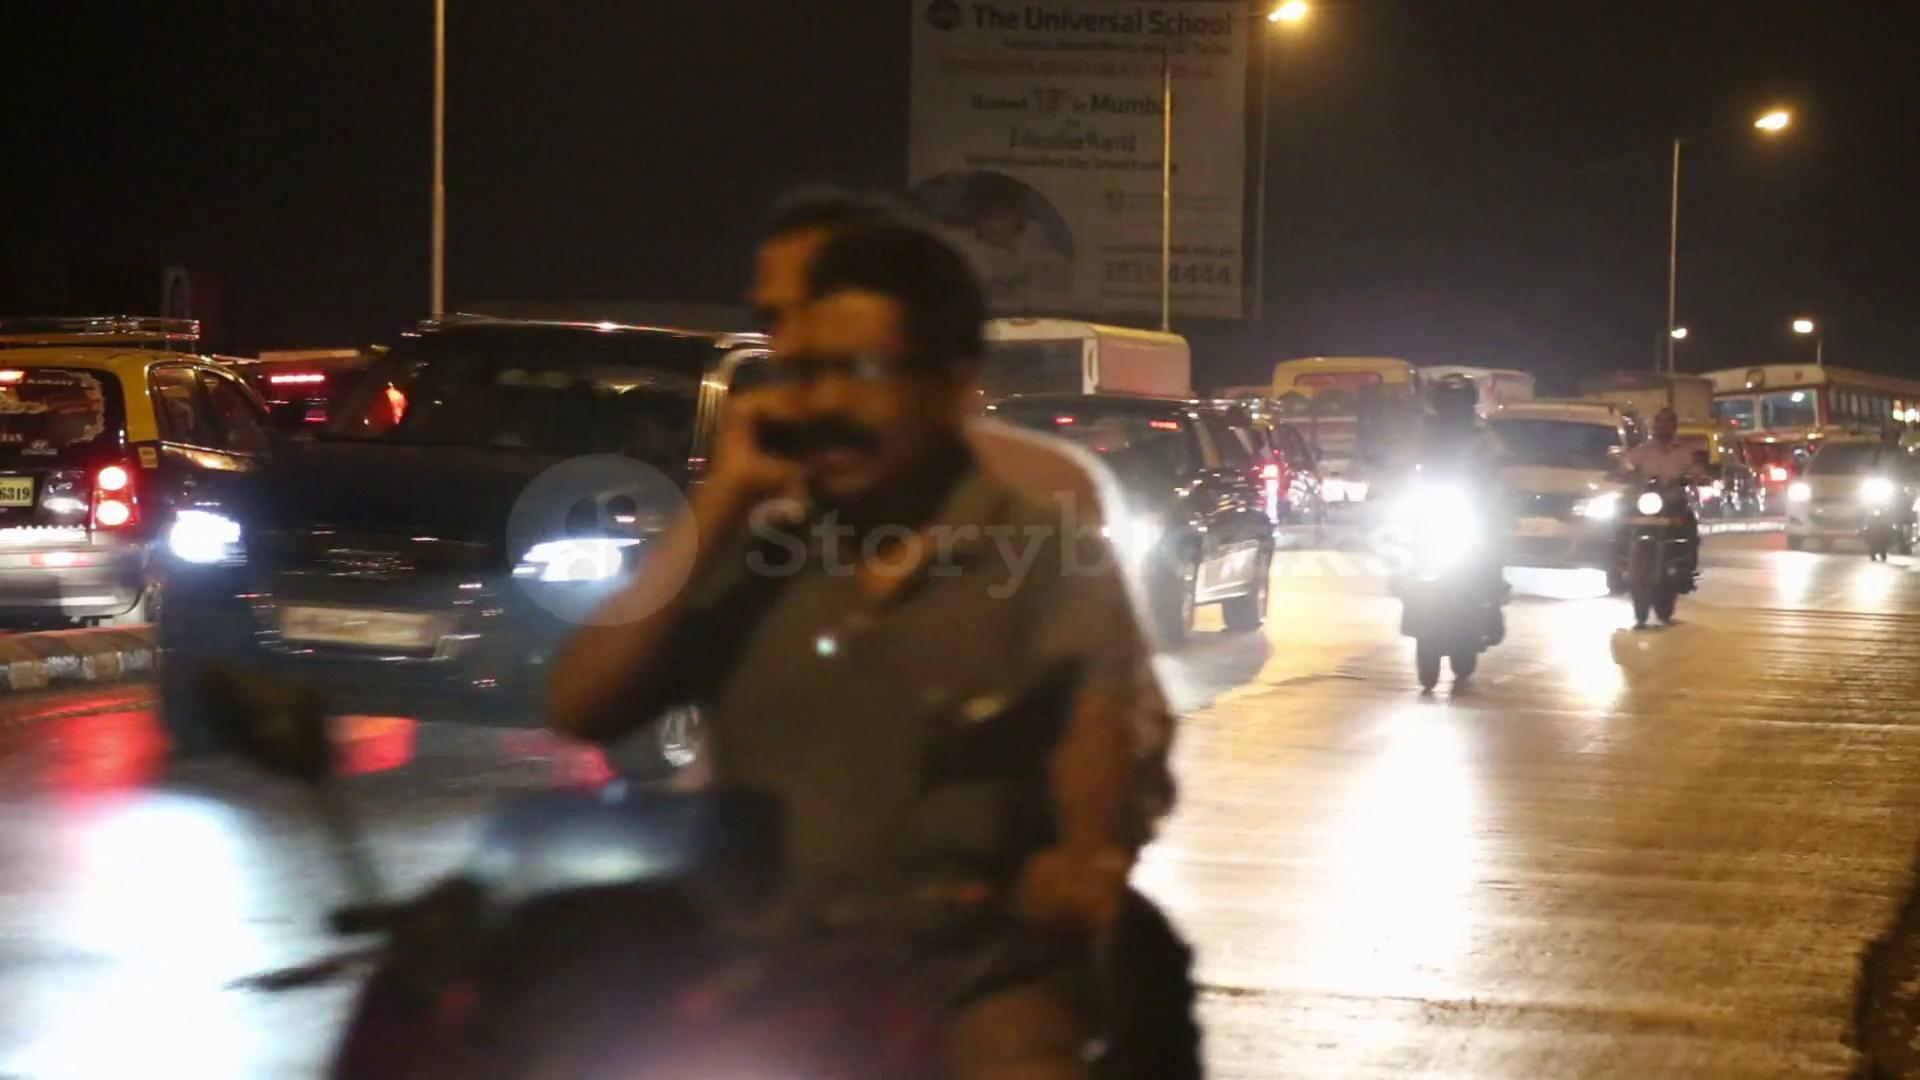rider: (381, 209, 1193, 1080), (1390, 356, 1517, 711), (1612, 406, 1709, 628), (1856, 406, 1906, 570)
with_helmate: (1413, 363, 1487, 424)
without_helmate: (1640, 409, 1687, 443)
